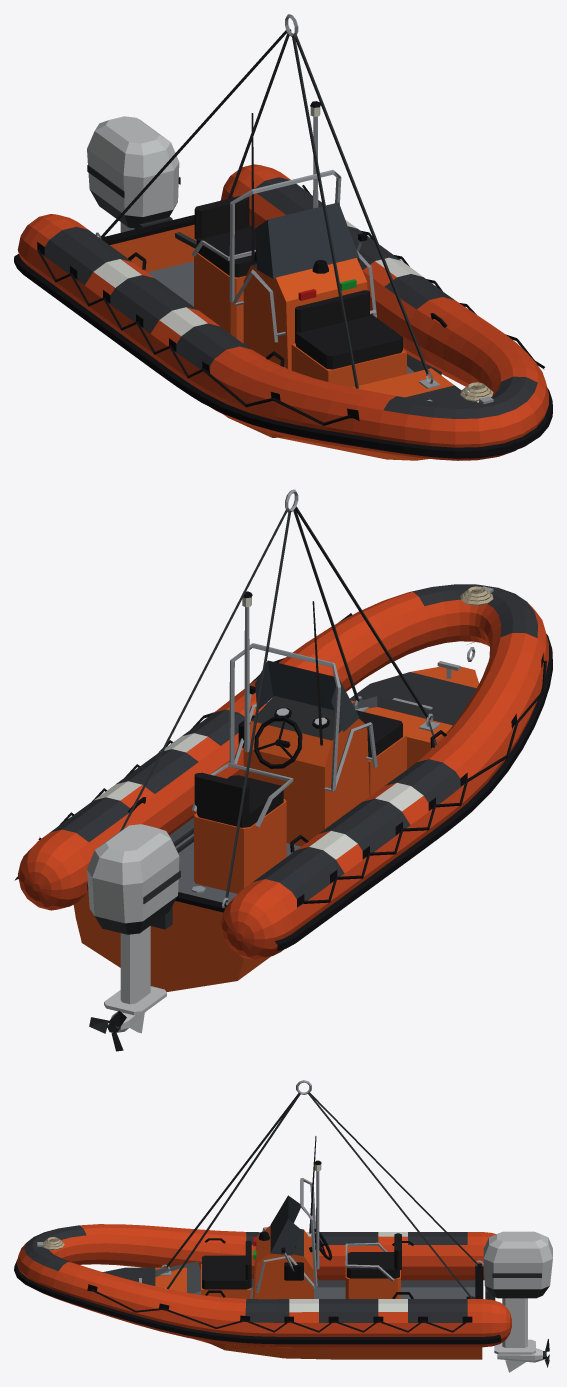
The model's file is rib_mid.glb.
3 renders of one model, top to bottom at view 1: azimuth 30°, elevation 25°; view 2: azimuth 150°, elevation 25°; view 3: azimuth 270°, elevation 25°, orthographic. The views are drawn at different scales.
Parts seen in each view (by area): view 1: fixed, sling; view 2: fixed, sling; view 3: fixed, sling.
Boxes of the visible parts, x1,y1,x2,y2 form: fixed: (14,101,552,460); sling: (101,14,428,388); fixed: (14,584,552,1051); sling: (120,489,428,902); fixed: (14,1136,552,1372); sling: (166,1080,477,1298).
Bounding box in the file's own units: 2.18 × 3.25 × 5.44.
